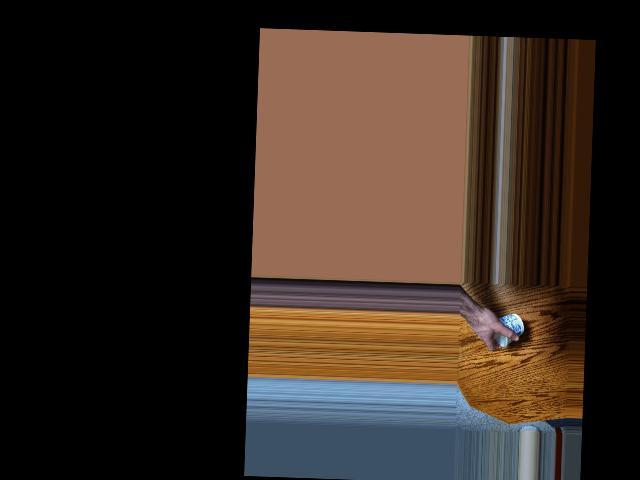cotage: (491, 311, 523, 346)
